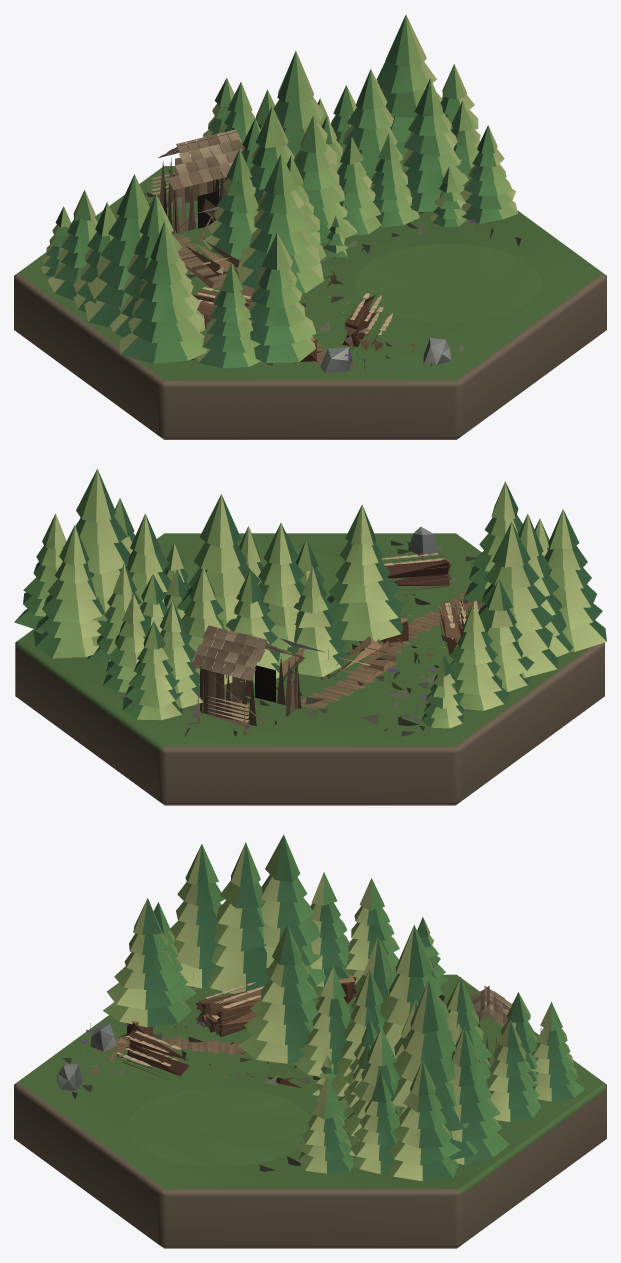
The model's file is tile_timber_lod0.glb.
The picture shows the model from 3 angles, top to bottom: view 1: azimuth 30°, elevation 25°; view 2: azimuth 150°, elevation 25°; view 3: azimuth 270°, elevation 25°; orthographic projection.
Parts seen in each view (by area): view 1: tile_timber_LOD0; view 2: tile_timber_LOD0; view 3: tile_timber_LOD0.
Part boxes in pixels (x1,y1,x2,y2): tile_timber_LOD0: (14,14,606,439); tile_timber_LOD0: (14,468,606,805); tile_timber_LOD0: (14,834,606,1248).
Bounding box in the file's own units: 1.84 × 0.8753 × 1.98.
